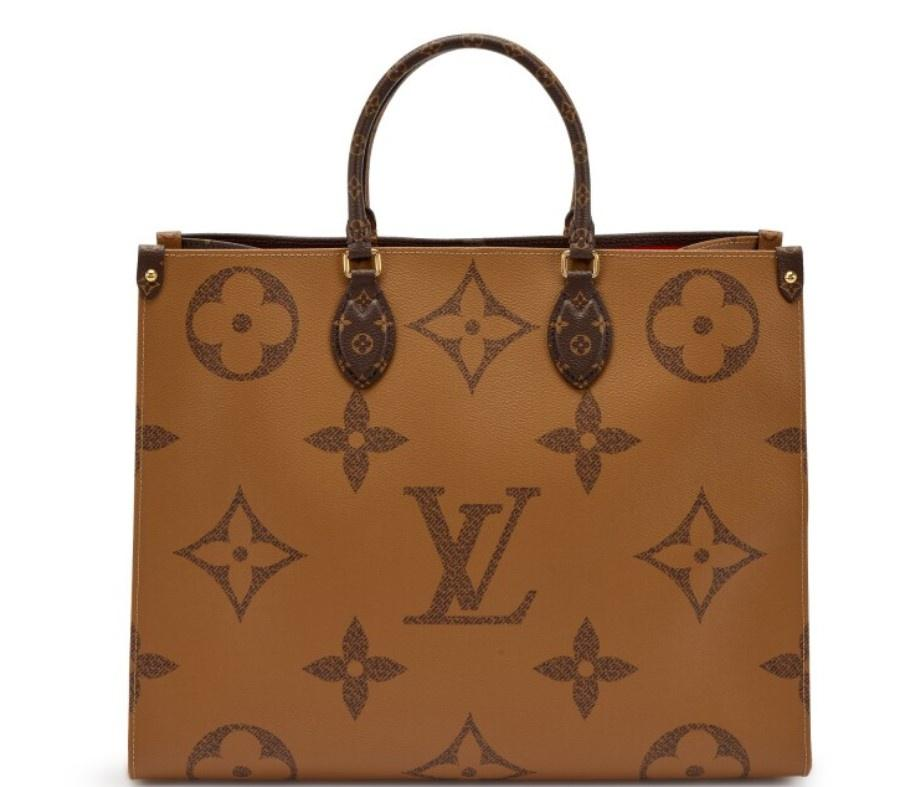LOUIS-VUITTON: (131, 233, 811, 786)
